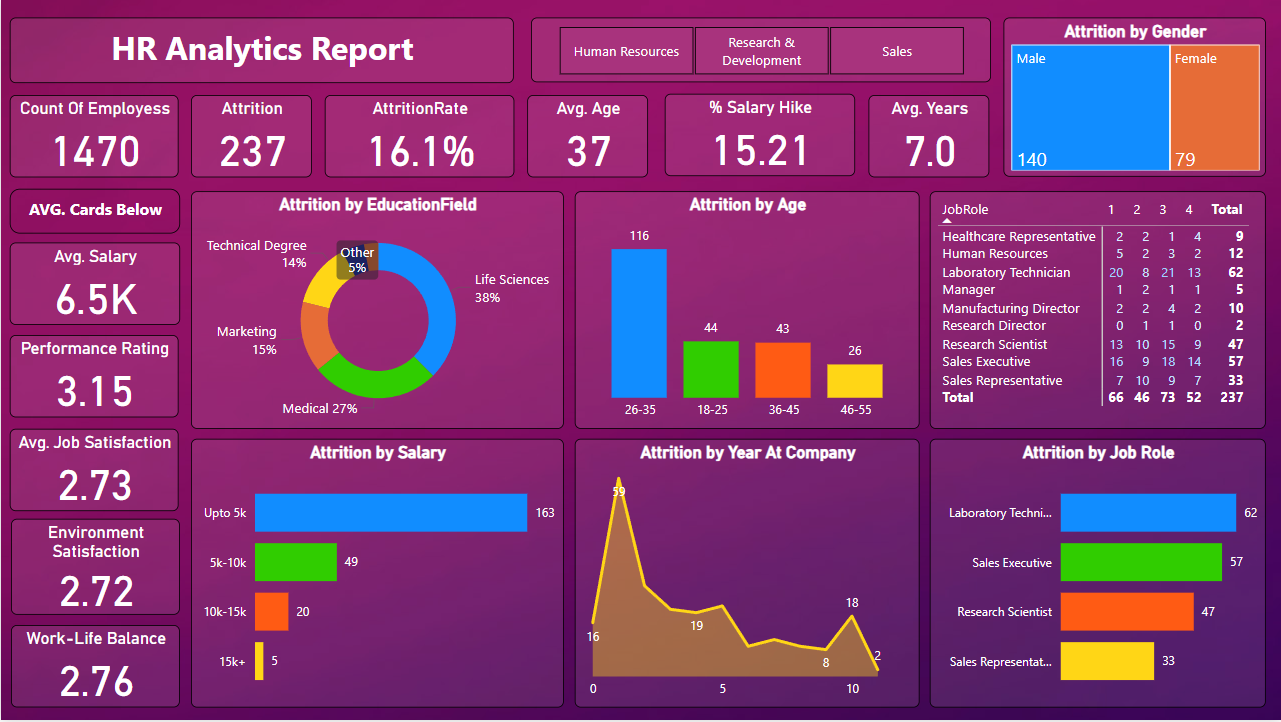

What the dashboard file says about the page in this screenshot:
{"tool":"powerbi","page":{"name":"Page 1","canvas":[1280,720],"ordinal":0},"visuals":[{"type":"card","title":"Count Of Employess","fields":{"Values":["CountNonNull(HR_Analytics (1).EmpID)"]},"box":[9.1,94.7,168.8,82.3],"z":0},{"type":"card","title":"Attrition","fields":{"Values":["Sum(HR_Analytics (1).Attritioncount)"]},"box":[190.2,94.7,120.8,82.3],"z":1000},{"type":"card","title":"Avg. Age","fields":{"Values":["Avg(HR_Analytics (1).Age)"]},"box":[526.4,94.7,120.8,82.3],"z":2000},{"type":"card","title":"AttritionRate","fields":{"Values":["HR_Analytics (1).AttritionRate"]},"box":[323.3,94.7,189.4,82.3],"z":3000},{"type":"card","title":"Avg. Salary","fields":{"Values":["Avg(HR_Analytics (1).MonthlyIncome)"]},"box":[662.2,94.7,189.4,82.3],"z":4000},{"type":"card","title":"Avg. Years","fields":{"Values":["Avg(HR_Analytics (1).YearsAtCompany)"]},"box":[868.1,94.7,120.8,82.3],"z":5000},{"type":"donutChart","title":" Attrition by EducationField","fields":{"Category":["HR_Analytics (1).EducationField"],"Y":["Sum(HR_Analytics (1).Attritioncount)"]},"box":[9.3,188,384.2,237.4],"z":6000},{"type":"columnChart","title":" Attrition by Age","fields":{"Category":["HR_Analytics (1).AgeGroup"],"Y":["Sum(HR_Analytics (1).Attritioncount)"]},"box":[408.6,189.4,443.2,237.4],"z":7000},{"type":"pivotTable","fields":{"Rows":["HR_Analytics (1).JobRole"],"Columns":["HR_Analytics (1).JobSatisfaction"],"Values":["Sum(HR_Analytics (1).Attritioncount)"]},"box":[868.3,190.7,396.6,237.4],"z":8000},{"type":"barChart","title":" Attrition by Salary","fields":{"Category":["HR_Analytics (1).SalarySlab"],"Y":["Sum(HR_Analytics (1).Attritioncount)"]},"box":[9.3,439.1,384.2,269],"z":9000},{"type":"barChart","title":" Attrition by Job Role","fields":{"Category":["HR_Analytics (1).JobRole"],"Y":["Sum(HR_Analytics (1).Attritioncount)"]},"box":[868.3,439.1,396.6,269],"z":10000},{"type":"areaChart","title":" Attrition by Year At Company","fields":{"Category":["HR_Analytics (1).YearsAtCompany"],"Y":["Sum(HR_Analytics (1).Attritioncount)"]},"box":[408.6,439.1,443.2,269],"z":11000},{"type":"treemap","title":"Attrition by Gender","fields":{"Group":["HR_Analytics (1).Gender"],"Values":["Sum(HR_Analytics (1).Attritioncount)"]},"box":[1002.8,17.8,262.1,159.2],"z":12000},{"type":"slicer","fields":{"Values":["HR_Analytics (1).Department"]},"box":[529.4,17.8,459.7,65],"z":13000},{"type":"textbox","box":[9.3,17.8,503.6,65.9],"z":14000}]}

Visuals, with their boxes in screenshot pixels (x1, y1, x2, y2), scaled from the page's 1280x720 canvas onto the 1281x722 screenshot:
"Count Of Employess" card: Rect(9, 95, 178, 177)
"Attrition" card: Rect(190, 95, 311, 177)
"Avg. Age" card: Rect(527, 95, 648, 177)
"AttritionRate" card: Rect(324, 95, 513, 177)
"Avg. Salary" card: Rect(663, 95, 852, 177)
"Avg. Years" card: Rect(869, 95, 990, 177)
" Attrition by EducationField" donutChart: Rect(9, 189, 394, 427)
" Attrition by Age" columnChart: Rect(409, 190, 852, 428)
pivotTable - HR_Analytics (1).JobRole x HR_Analytics (1).JobSatisfaction: Rect(869, 191, 1266, 429)
" Attrition by Salary" barChart: Rect(9, 440, 394, 710)
" Attrition by Job Role" barChart: Rect(869, 440, 1266, 710)
" Attrition by Year At Company" areaChart: Rect(409, 440, 852, 710)
"Attrition by Gender" treemap: Rect(1004, 18, 1266, 177)
slicer - HR_Analytics (1).Department: Rect(530, 18, 990, 83)
textbox: Rect(9, 18, 513, 84)
